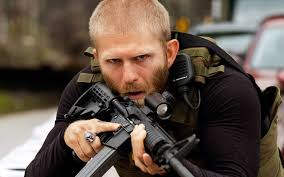gun: (46, 78, 210, 169)
